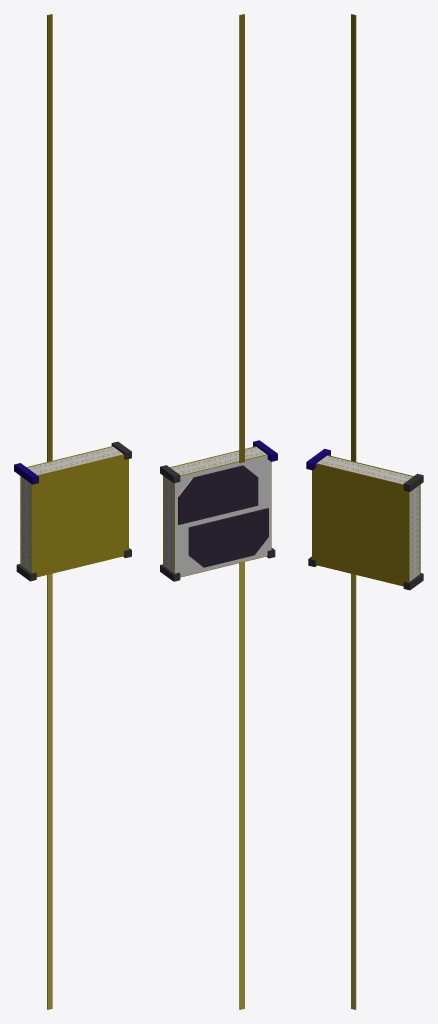
Rendered from spacebee_high.gltf.
3 renders of one model, left to right at view 1: azimuth 30°, elevation 25°; view 2: azimuth 210°, elevation 25°; view 3: azimuth 330°, elevation 25°, orthographic.
Parts seen in each view (by area): view 1: Cube.001, Cube.009, Cube.010, Cube, Cube.002, Cube.006; view 2: Cube, Cube.012, Cube.011, Cube.009, Cube.010, Cube.002; view 3: Cube.001, Cube.009, Cube.010, Cube, Cube.002.
Part boxes in pixels (bbox=[...]): Cube.001: bbox=[31, 454, 128, 577]; Cube.009: bbox=[47, 14, 52, 461]; Cube.010: bbox=[47, 573, 52, 1009]; Cube: bbox=[21, 447, 122, 571]; Cube.002: bbox=[20, 446, 113, 564]; Cube.006: bbox=[14, 463, 38, 484]; Cube: bbox=[164, 447, 271, 576]; Cube.012: bbox=[178, 465, 258, 524]; Cube.011: bbox=[188, 508, 268, 567]; Cube.009: bbox=[239, 14, 244, 463]; Cube.010: bbox=[239, 561, 244, 1009]; Cube.002: bbox=[174, 454, 271, 577]; Cube.001: bbox=[312, 463, 409, 586]; Cube.009: bbox=[351, 14, 356, 461]; Cube.010: bbox=[351, 573, 356, 1009]; Cube: bbox=[317, 456, 419, 581]; Cube.002: bbox=[327, 455, 420, 574].
Size of the model in its own units: 2.11 by 19.74 by 0.6597.
